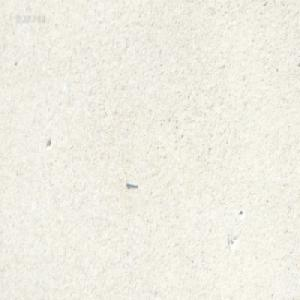Nail: (124, 179, 138, 188)
